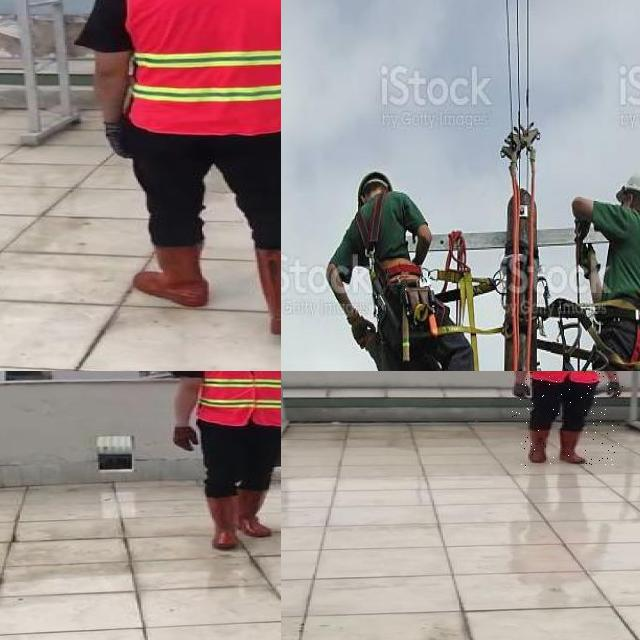Harness: (435, 231, 503, 371), (355, 192, 390, 318)
boots: (131, 244, 211, 308), (250, 245, 281, 336), (202, 494, 242, 551), (238, 486, 272, 535), (557, 430, 587, 464), (524, 429, 550, 464)
hand_glove: (101, 121, 131, 160), (171, 426, 200, 452)
person: (79, 0, 281, 341), (166, 371, 281, 554), (511, 371, 624, 467)
vest: (125, 0, 281, 133), (199, 371, 281, 428)
